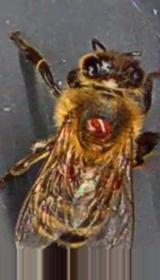varroa_mite: (82, 101, 112, 143)
